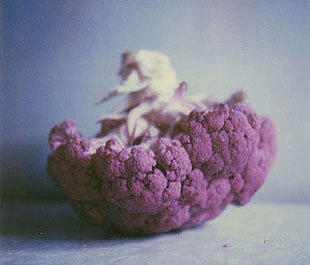cauliflower: (41, 45, 284, 248)
